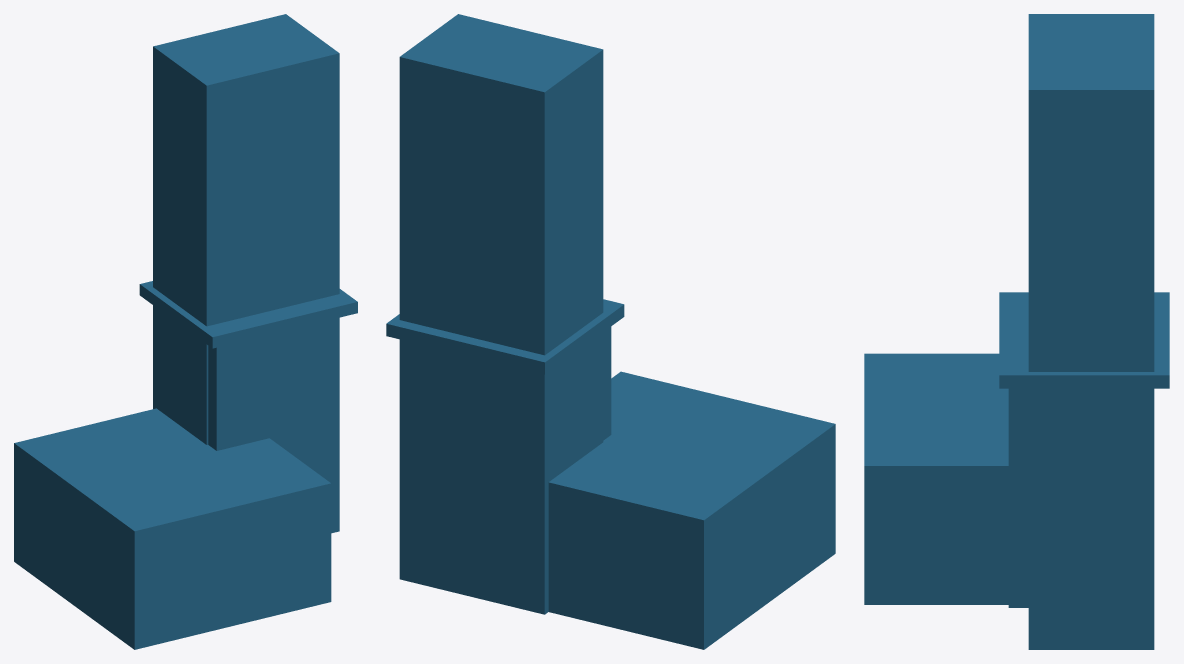
File: SM_Bld_Background_09_Collision.fbx
3 renders of one model, left to right at view 1: azimuth 30°, elevation 25°; view 2: azimuth 150°, elevation 25°; view 3: azimuth 270°, elevation 25°, orthographic. The views are drawn at different scales.
Visible parts, largest first — view 1: SM_Bld_Background_09_Collision; view 2: SM_Bld_Background_09_Collision; view 3: SM_Bld_Background_09_Collision.
Part boxes in pixels (x1,y1,x2,y2): SM_Bld_Background_09_Collision: (14, 14, 357, 649); SM_Bld_Background_09_Collision: (386, 14, 835, 649); SM_Bld_Background_09_Collision: (864, 14, 1169, 649).
Bounding box in the file's own units: 3472 × 5645 × 2791.
